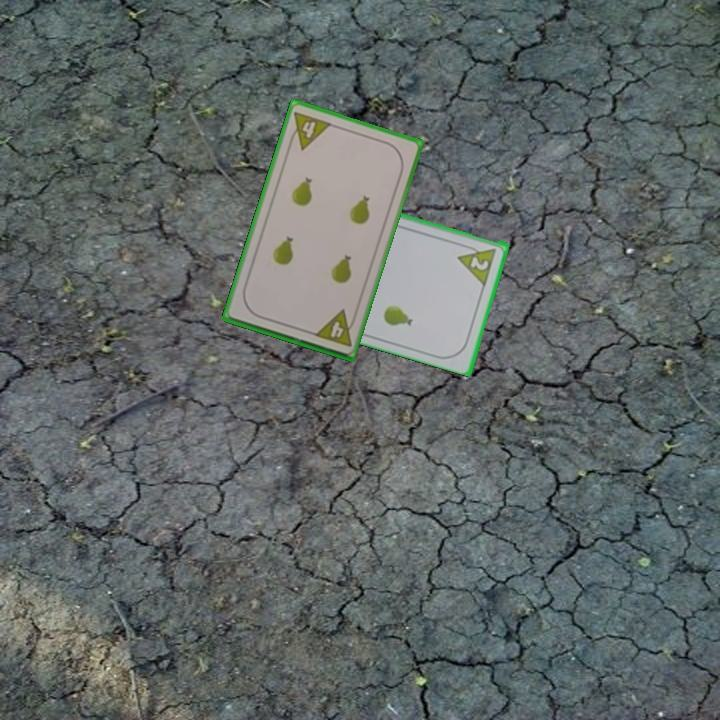2p: (455, 240, 500, 287)
4p: (285, 107, 334, 153), (310, 306, 359, 350)
